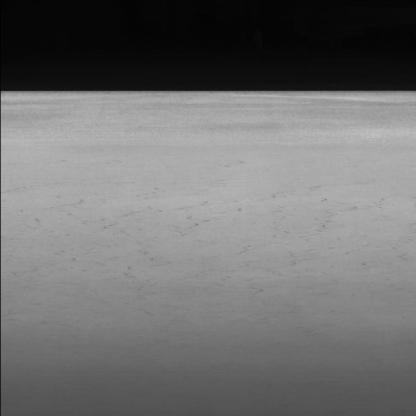silk_spot: (36, 181, 356, 289)
